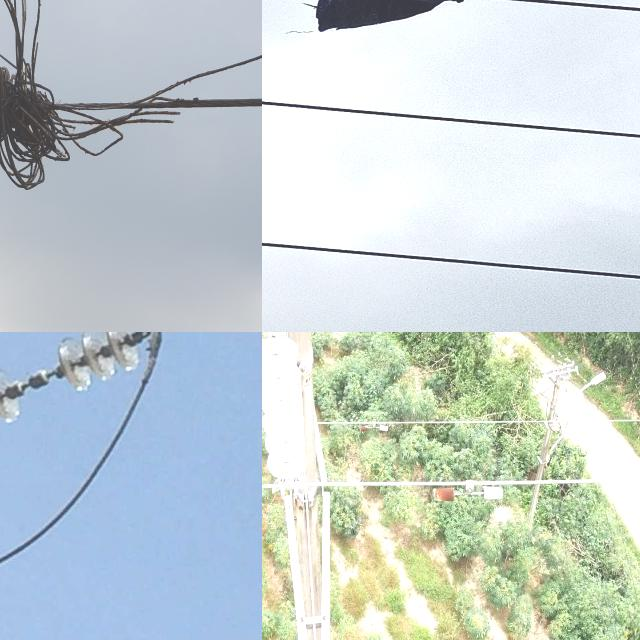杆塔: (262, 332, 355, 640)
植被遮挡: (298, 0, 478, 42)
正常绝缘子: (0, 332, 141, 433), (262, 332, 315, 490)
电缆破损: (0, 0, 262, 224)
绝缘子破损: (14, 372, 36, 400), (38, 361, 58, 391), (265, 332, 283, 343)
